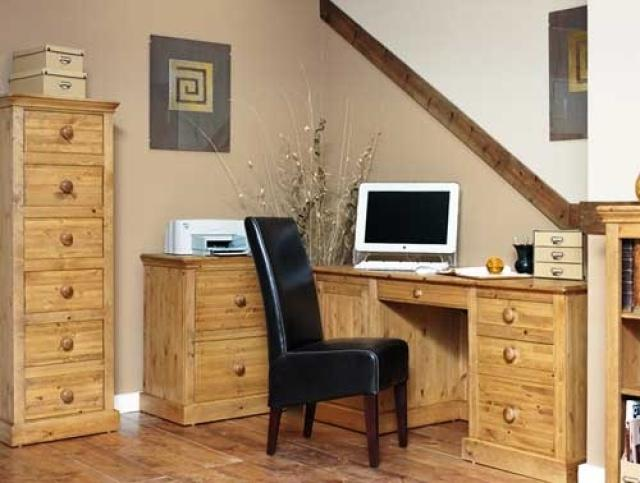AIO PC-Monitor-TV: (353, 181, 459, 253)
Kursi: (244, 214, 409, 466)
Printer: (163, 218, 249, 255)
